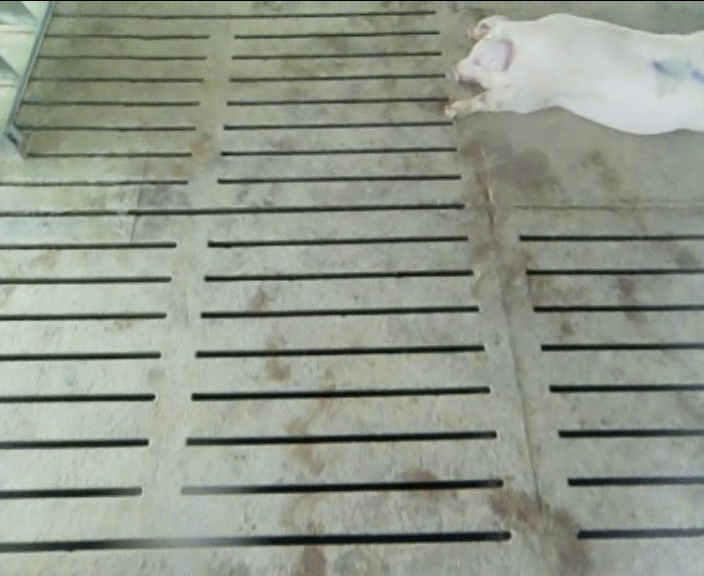pig: (445, 14, 703, 133)
